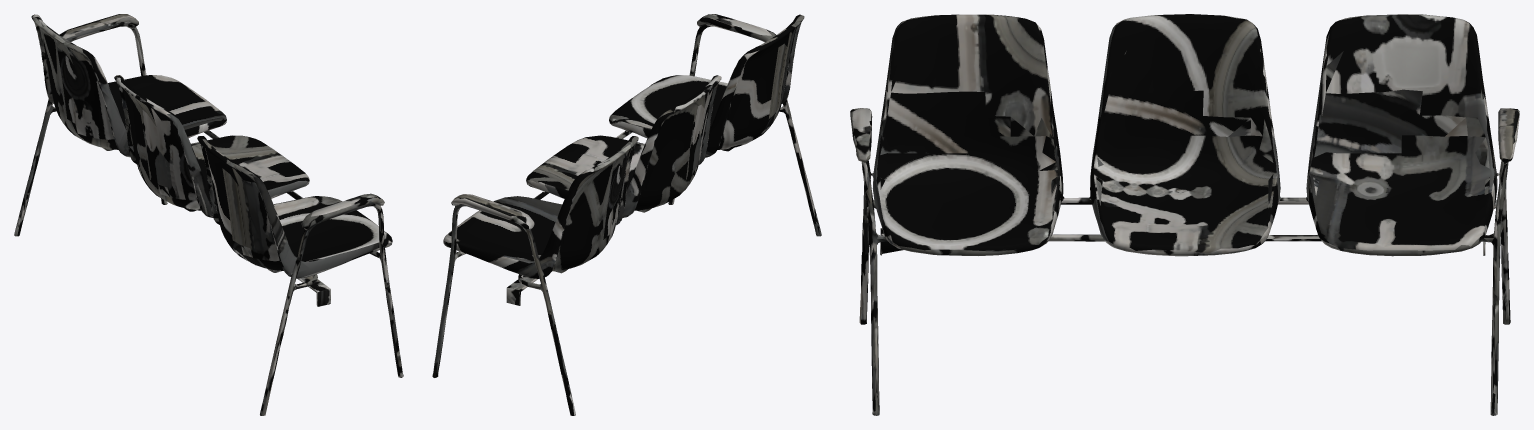
The picture shows the model from 3 angles, left to right: view 1: azimuth 30°, elevation 25°; view 2: azimuth 150°, elevation 25°; view 3: azimuth 270°, elevation 25°; orthographic projection. The views are drawn at different scales.
Parts seen in each view (by area): view 1: repaired; view 2: repaired; view 3: repaired.
Part boxes in pixels (<box>): repaired: <box>14,14,403,415</box>; repaired: <box>432,14,821,415</box>; repaired: <box>850,14,1519,415</box>.
Bounding box in the file's own units: 0.3533 × 0.5053 × 0.9993.
